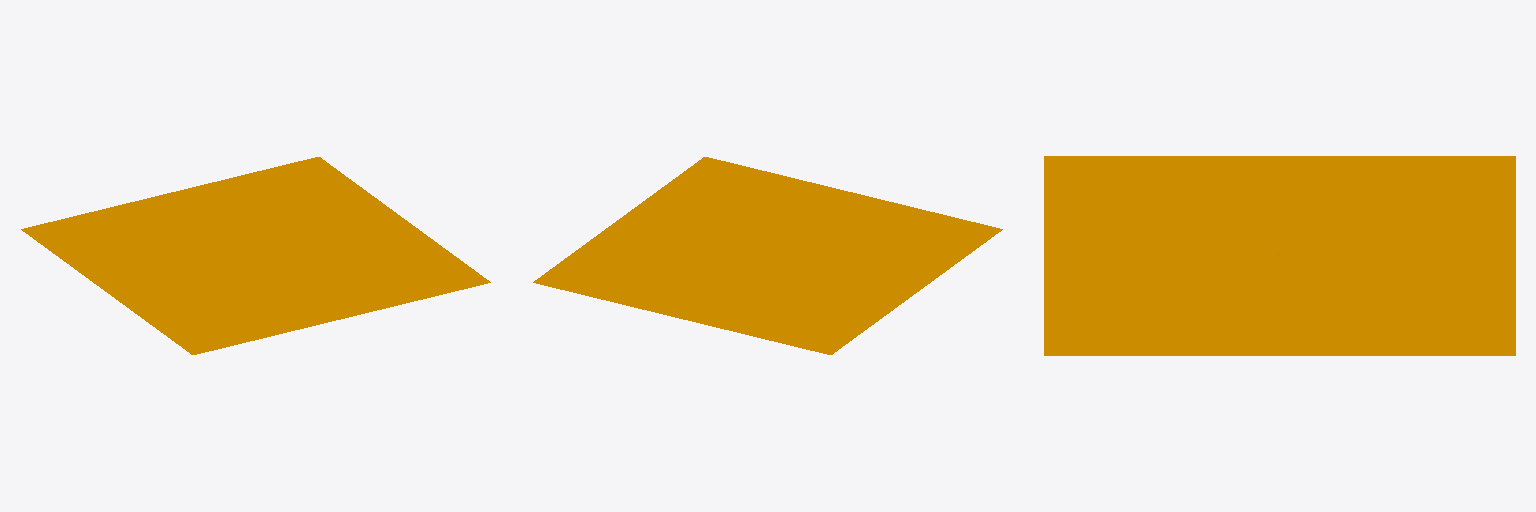
The robot description file, URDF, robot "wheel":
<?xml version="1.0" ?>
<robot name="wheel">

    <material name="industrial-blue">
        <color rgba="0.1137254901 0.3450980392 0.654901960 1" />
    </material>
    
    <material name="arches-blue">
        <color rgba="0.0 0.62352941176 0.831372549 1" />
    </material>
    
    <material name = "heritage-orange">
        <color rgba = "0.96078431 0.50980392 0.11764706 1" />
    </material>
      
      
    <link name="ground">
        <visual>
            <origin rpy="0 0 0" xyz="0 0 0"/>
            <geometry>
                <mesh filename="plane_big.obj" scale="1.0 1.0 1.0"/>
            </geometry>
            <material name = "steel"/>
        </visual>
        <inertial>
            <origin rpy="0 0 0" xyz="0 0 0"/>
            <mass value="0"/>
            <inertia ixx="0" ixy="0" ixz="0" iyy="0" iyz="0" izz="0"/>
        </inertial>
    </link>
    
    <link name="axle">
        <visual>
            <origin rpy="0 0 0" xyz="0 0 0"/>
            <geometry>
                <mesh filename="cylinder.stl" scale="0.5 0.5 0.333"/>
            </geometry>
            <material name = "arches-blue"/>
        </visual>
        <inertial>
            <origin rpy="0 0 0" xyz="0 0 0"/>
            <mass value="0"/>
            <inertia ixx="0" ixy="0" ixz="0" iyy="0" iyz="0" izz="0"/>
        </inertial>
    </link>
    
    <link name="wheel">
        <visual>
            <origin rpy="0 0 0" xyz="0 0 0"/>
            <geometry>
                <mesh filename="cylinder.stl" scale="2.0 2.0 0.333"/>
            </geometry>
            <material name = "industrial-blue"/>
        </visual>
        <inertial>
            <origin rpy="0 0 0" xyz="0 0 0"/>
            <mass value="1.0"/>
            <inertia ixx="0.25924" ixy="0" ixz="0" iyy="0.25924" iyz="0" izz="0.5"/>
        </inertial>
    </link>
    
    <link name="arrow">
        <visual>
            <origin rpy="0 0 0" xyz="0 0 0"/>
            <geometry>
                <mesh filename="arrow_lin.stl" scale="1.25 0.1 0.75"/>
            </geometry>
            <material name = "heritage-orange"/>
        </visual>
        <inertial>
            <origin rpy="0 0 0" xyz="0 0 0"/>
            <mass value="0"/>
            <inertia ixx="0" ixy="0" ixz="0" iyy="0" iyz="0" izz="0"/>
        </inertial>
    </link>
    
    
    <joint name="ground_to_axle" type="continuous">
        <parent link = "ground" />
        <child link = "axle" />
        <origin xyz = "0 0 0.1665" />
        <axis xyz = "0 0 1" />
    </joint>
    
    <joint name="axle_to_wheel" type="fixed">
        <parent link = "axle" />
        <child link = "wheel" />
        <origin xyz = "0 0 0.333" />
    </joint>
    
    <joint name="wheel_to_arrow" type="fixed">
        <parent link = "wheel" />
        <child link = "arrow" />
        <origin xyz="0 0 0.17" rpy="1.5707963267948966 0 0"/>
    </joint>

</robot>

--- What the picture shows (computed from the rendered views, not written in the file) ---
Views: 3 orthographic renders of the robot side by side, from view 1: azimuth 30°, elevation 25°; view 2: azimuth 150°, elevation 25°; view 3: azimuth 270°, elevation 25°.
Model wheel with 4 links and 3 joints (1 continuous, 2 fixed), rooted at ground, posed every joint at zero.
Links seen in each view (by area): view 1: ground; view 2: ground; view 3: ground.
Link boxes in pixels (<box>): ground: <box>21,157,490,354</box>; ground: <box>533,157,1002,354</box>; ground: <box>1044,156,1515,355</box>.
Bounding box of the posed robot: 200 × 200 × 0.6895 m (x, y, z).
2 mesh visuals loaded from 3 distinct referenced files (1 binary STL, 1 OBJ); not drawn: 2 (reference not matched to a file when rendering).
